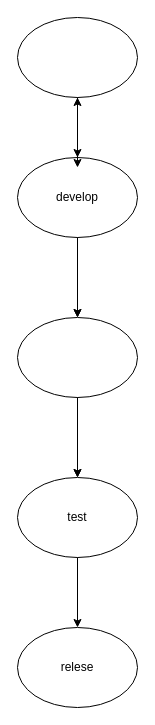
Image size: 155x725. Some labels were removed from this diagram. Here are the shapes that lost their labels. From the top down, the centre of each, then its label:
At (x=77, y=57): "plan".
At (x=77, y=357): "build".
